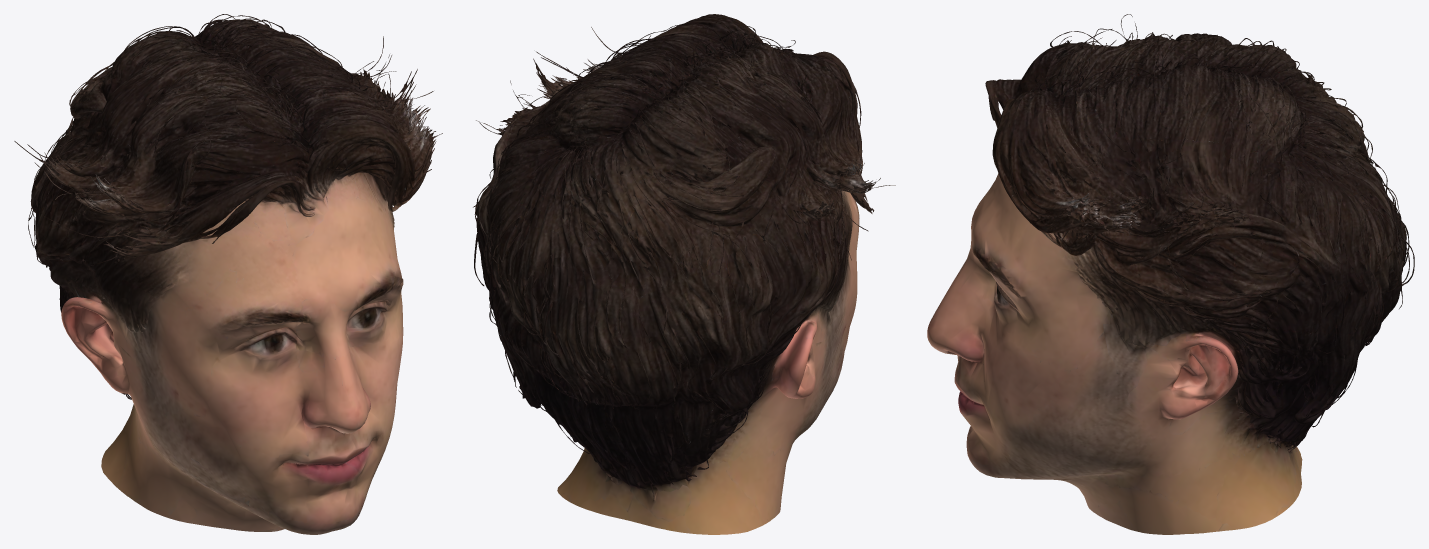
File: head.glb
3 views of the same model, side by side, from view 1: azimuth 30°, elevation 25°; view 2: azimuth 150°, elevation 25°; view 3: azimuth 270°, elevation 25° (orthographic).
Bounding box in the file's own units: 1.02 × 1.17 × 1.11.
Materials: 1 (1 with a texture image).
